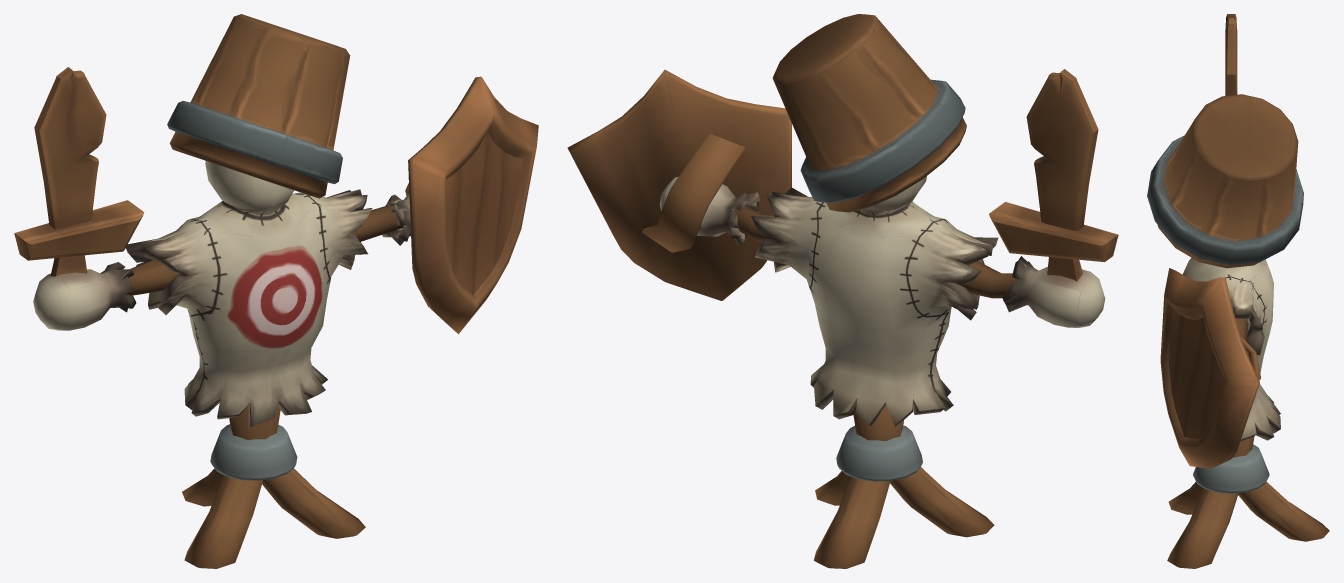
The model's file is Dummy.fbx.
The picture shows the model from 3 angles, left to right: view 1: azimuth 30°, elevation 25°; view 2: azimuth 150°, elevation 25°; view 3: azimuth 270°, elevation 25°; orthographic projection. The views are drawn at different scales.
Parts seen in each view (by area): view 1: Dummy; view 2: Dummy; view 3: Dummy.
Part boxes in pixels (bbox=[...]): Dummy: bbox=[14, 14, 538, 568]; Dummy: bbox=[567, 14, 1118, 568]; Dummy: bbox=[1147, 14, 1329, 568].
Size of the model in its own units: 120 by 108 by 40.52.
